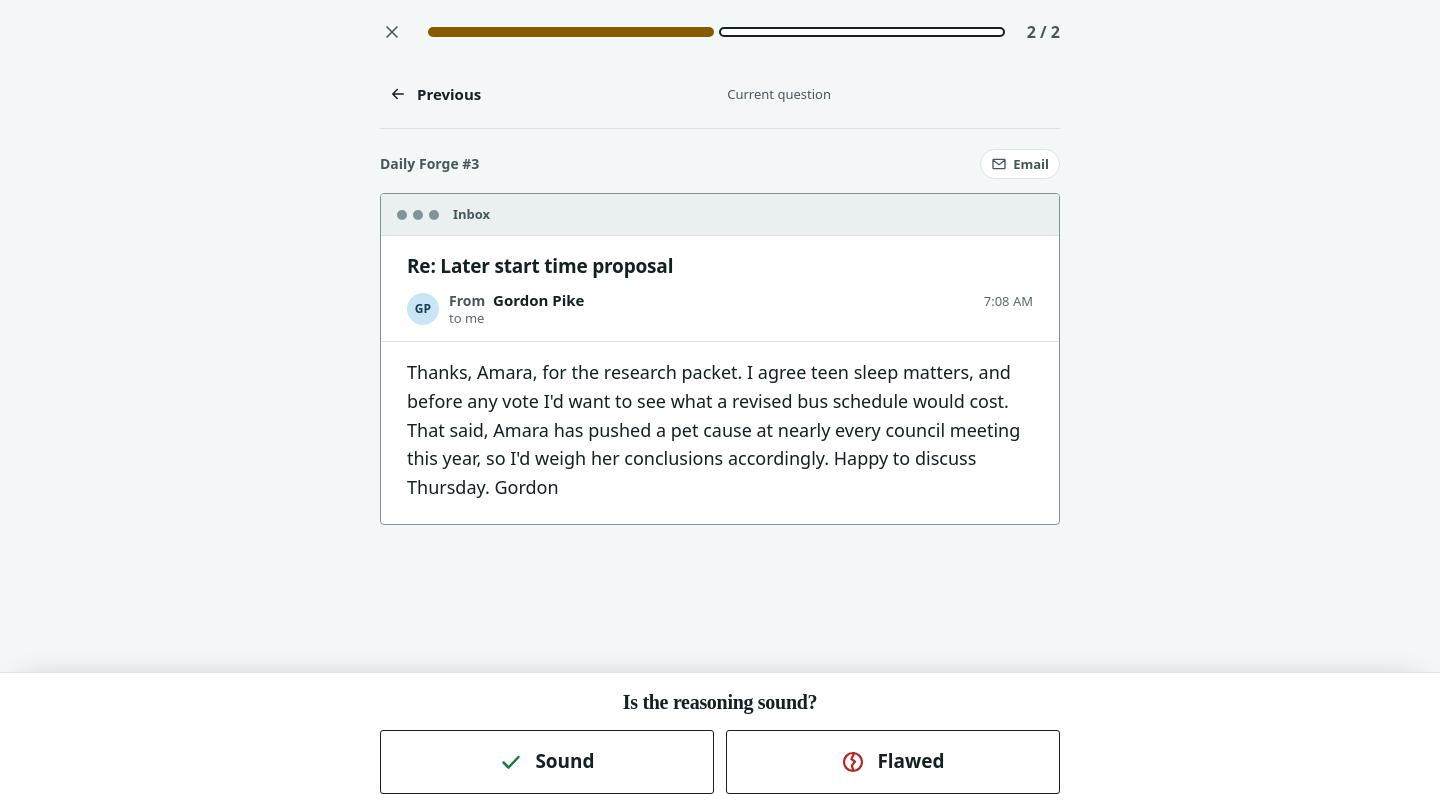
Scenario: read-only question navigation › explains unavailable original choices on a resumed Daily without fabricating a named answer
This screenshot has width=1440, height=810.
Step 1. Click the button "Previous" → (435, 94), box top-left (380, 72), bottom-right (490, 116)
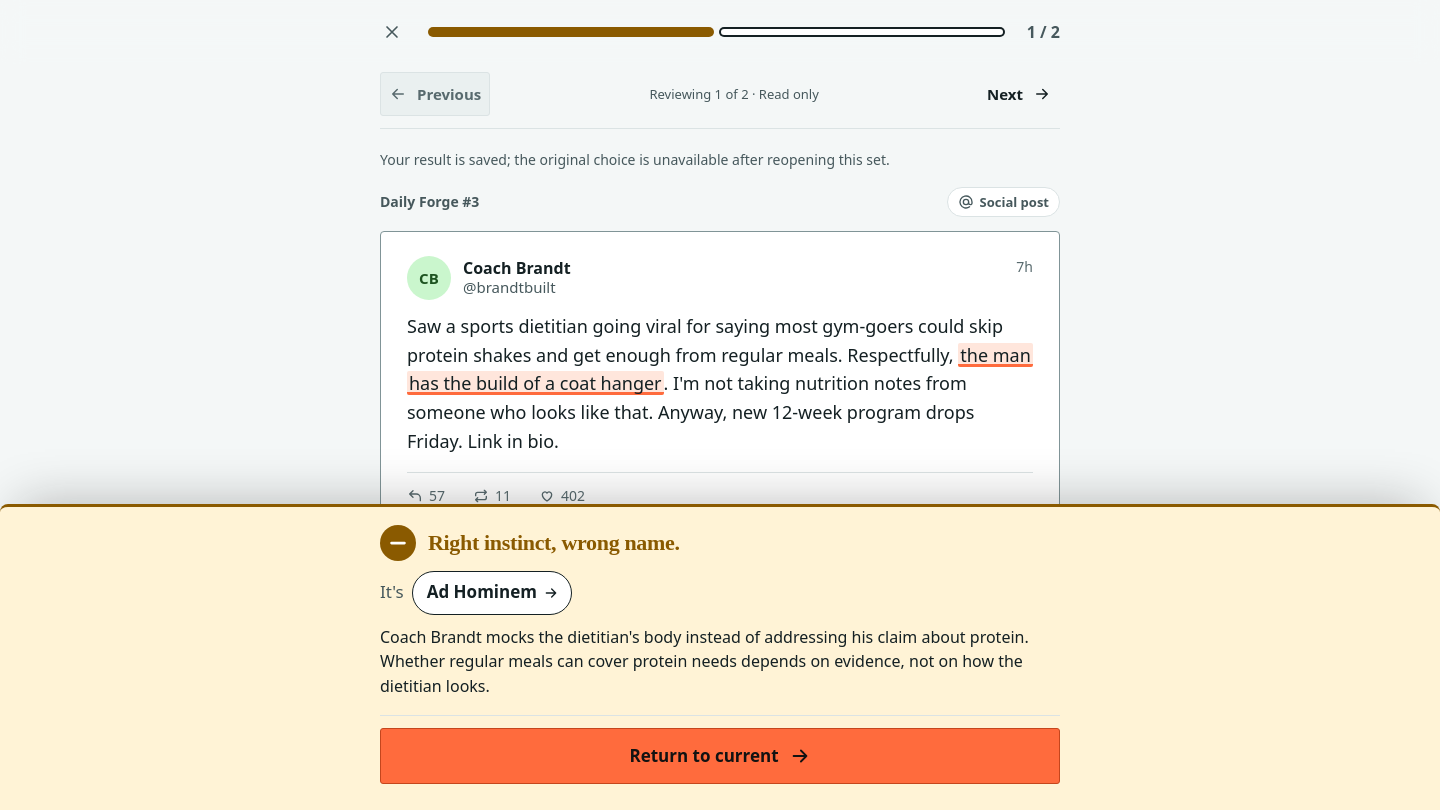
Result: the text "original choice is unavailable after reopening" is shown at top-left (380, 150), bottom-right (890, 169)
Step 2. Click the button "Next" → (1019, 94), box top-left (978, 72), bottom-right (1060, 116)
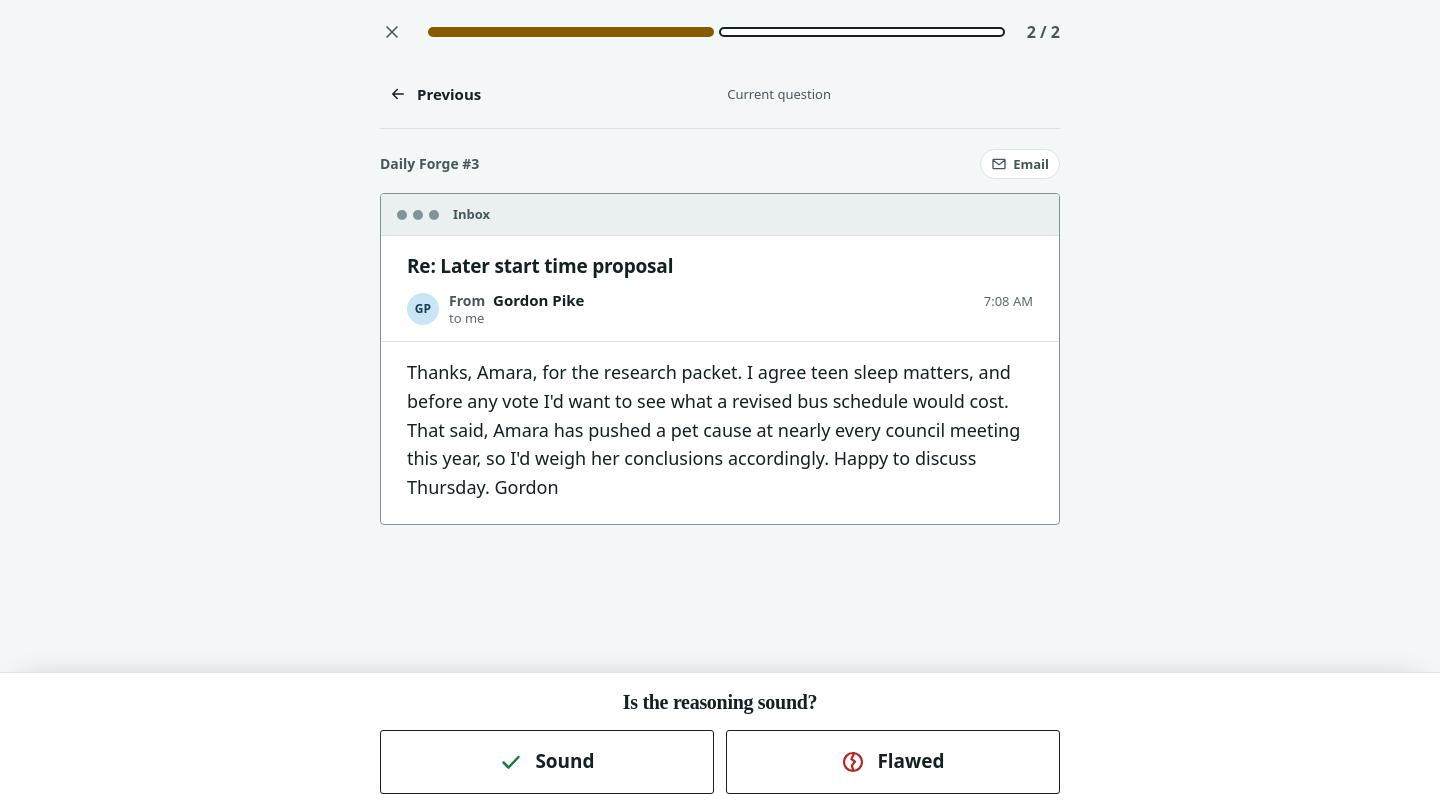
Result: the text "Is the reasoning sound?" is shown at top-left (623, 691), bottom-right (817, 713)
